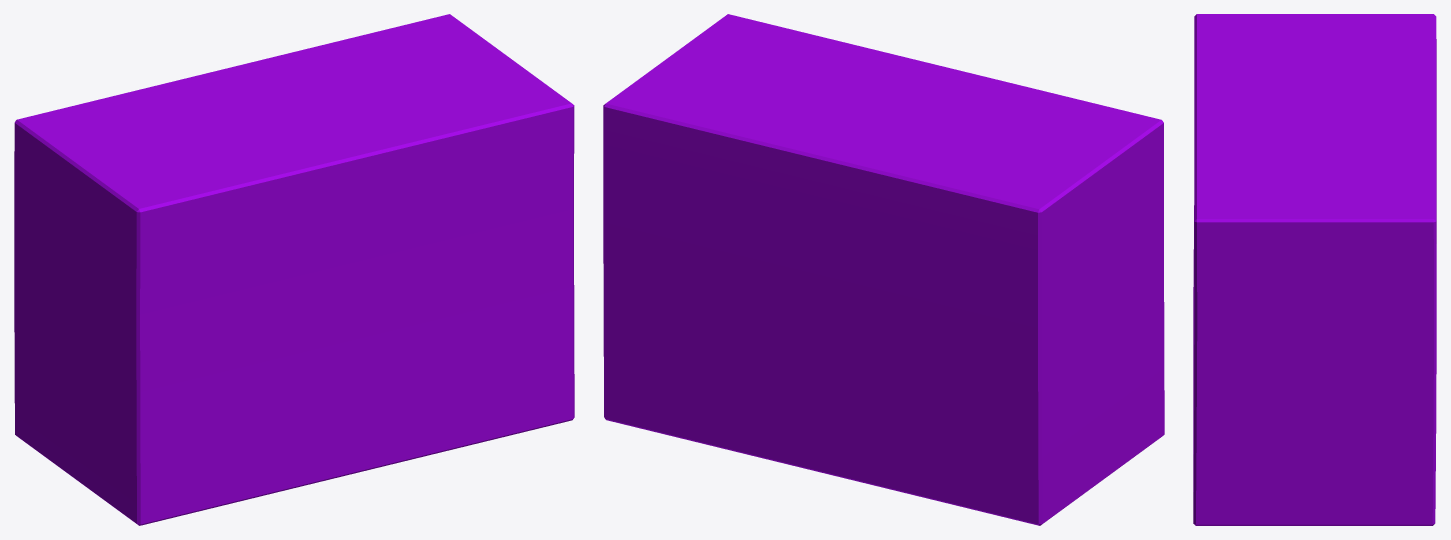
The model's file is Modular_Multi_03.fbx.
The picture shows the model from 3 angles, left to right: view 1: azimuth 30°, elevation 25°; view 2: azimuth 150°, elevation 25°; view 3: azimuth 270°, elevation 25°; orthographic projection. The views are drawn at different scales.
Parts seen in each view (by area): view 1: Modular_Multi_03; view 2: Modular_Multi_03; view 3: Modular_Multi_03.
Part boxes in pixels (bbox=[...]): Modular_Multi_03: bbox=[14, 14, 574, 525]; Modular_Multi_03: bbox=[603, 14, 1164, 525]; Modular_Multi_03: bbox=[1193, 14, 1436, 525].
Size of the model in its own units: 71.56 by 49.44 by 35.54.
